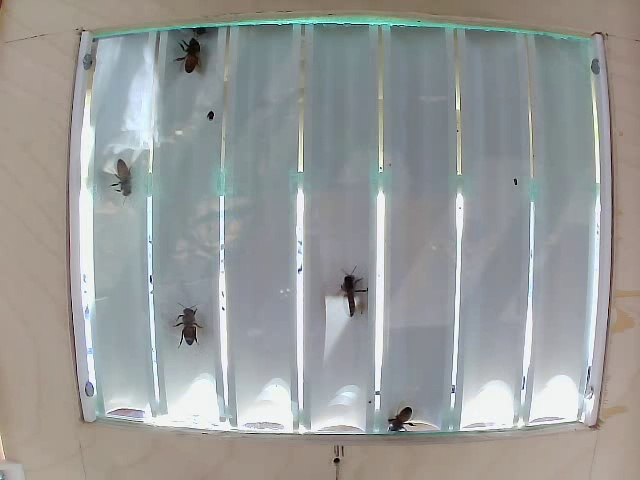bee: (100, 146, 150, 201), (167, 303, 219, 352), (178, 31, 213, 78), (334, 273, 369, 319)
